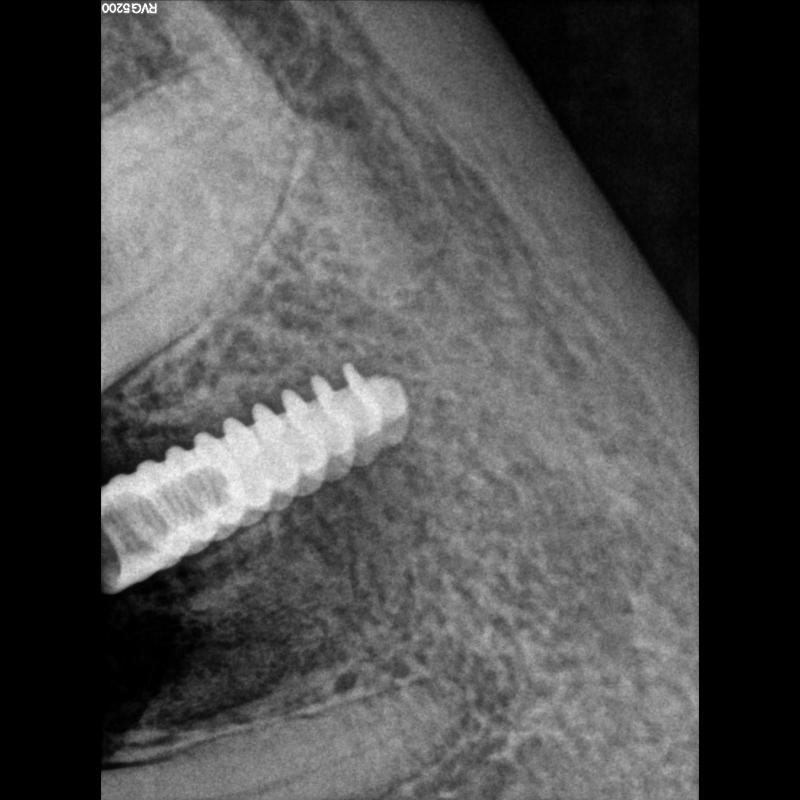ADIN: (101, 364, 412, 590)
